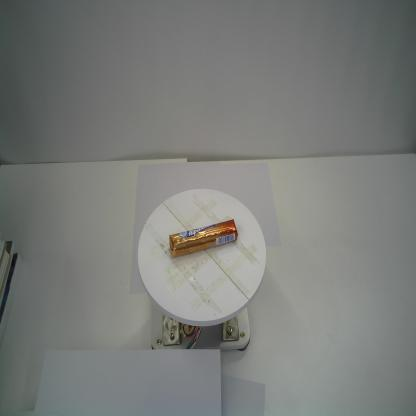Candy: (167, 218, 240, 262)
